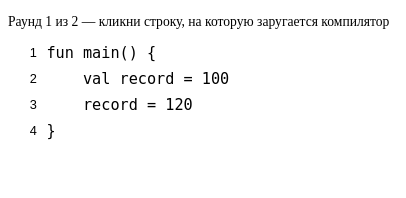
wrong line click says the line is fine
Click the text "val record = 100". click: (138, 79)
box: 46,70 -> 229,88
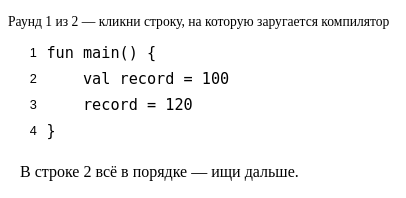
expect the text "В строке 2 всё в порядке — ищи дальше." is shown: met, box 20,163 -> 299,180
